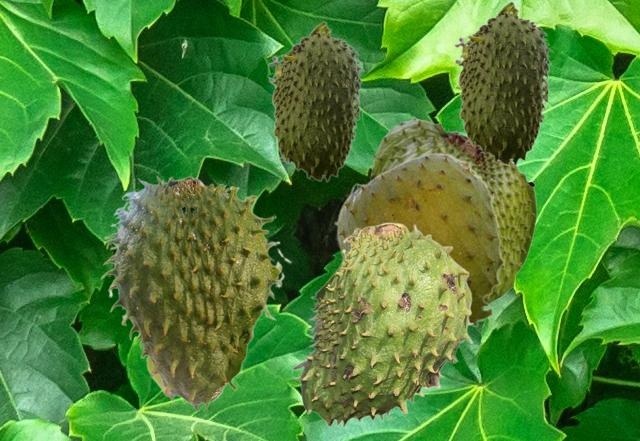guyabano: (100, 175, 291, 411), (291, 222, 473, 427), (370, 115, 536, 303), (333, 152, 504, 327), (454, 0, 553, 165), (268, 20, 364, 181)
